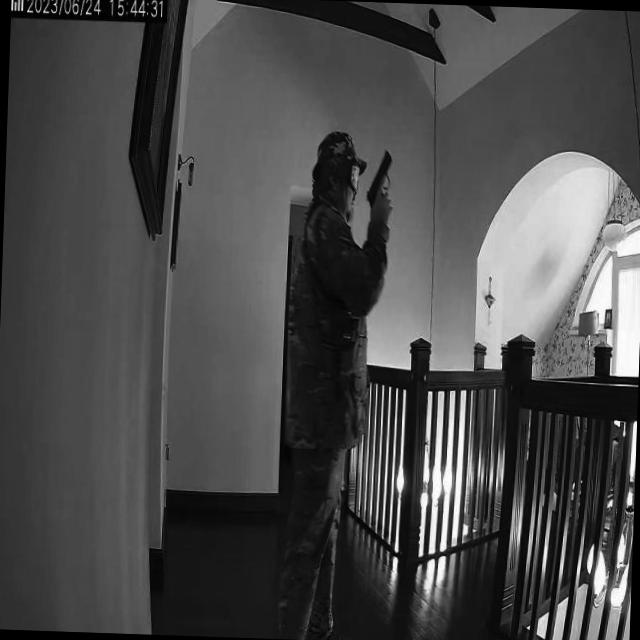gun: (368, 147, 394, 216)
person with a gun: (274, 122, 366, 636)
